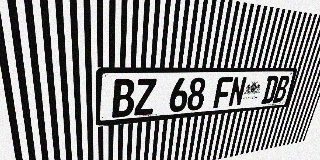6: (168, 78, 190, 112)
8: (186, 77, 207, 111)
B: (112, 79, 135, 118), (272, 76, 291, 103)
D: (261, 76, 279, 104)
F: (213, 77, 233, 108)
N: (228, 76, 247, 107)
Z: (134, 78, 157, 116)
